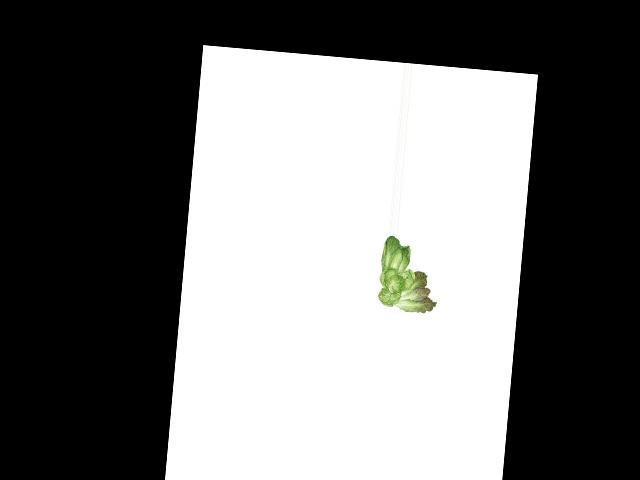lettuce: (372, 234, 446, 316)
